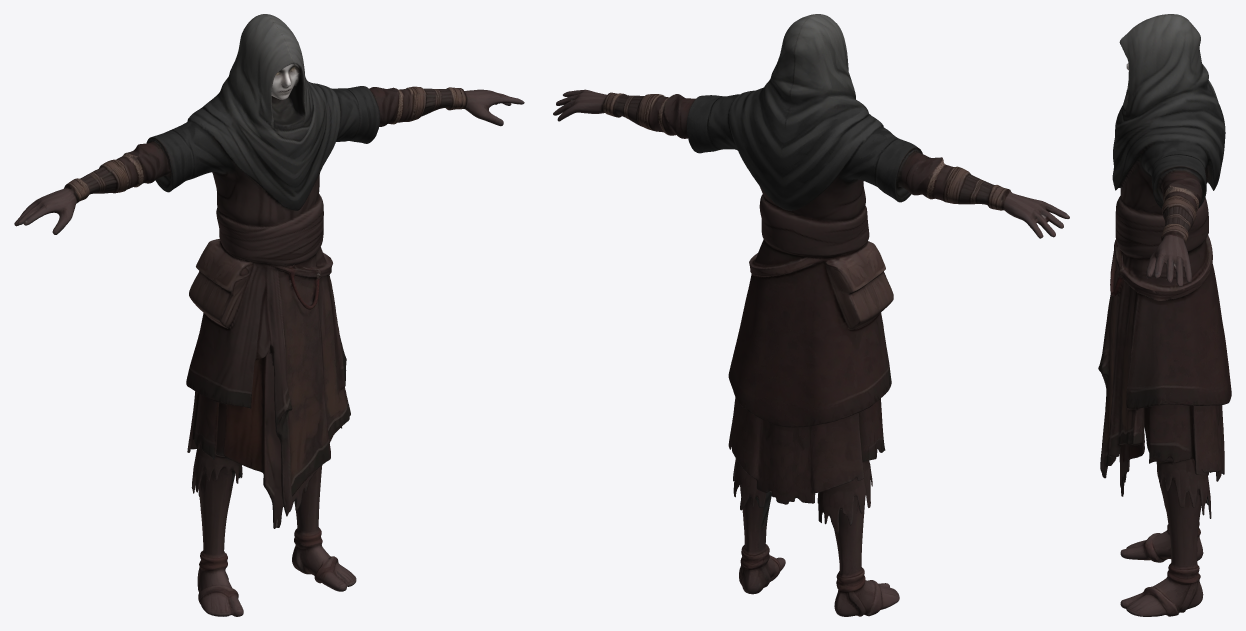
Rendered from Meshy_AI_Ashen_Oracle_20261111_texture.fbx.
3 views of the same model, side by side, from view 1: azimuth 30°, elevation 25°; view 2: azimuth 150°, elevation 25°; view 3: azimuth 270°, elevation 25° (orthographic).
Parts seen in each view (by area): view 1: Mesh_0; view 2: Mesh_0; view 3: Mesh_0.
Part boxes in pixels (left/top/right/bottom): Mesh_0: left=14, top=14, right=524, bottom=616; Mesh_0: left=553, top=14, right=1069, bottom=616; Mesh_0: left=1098, top=14, right=1231, bottom=616.
Bounding box in the file's own units: 173 × 190 × 40.23.
1 material, 1 textured.
